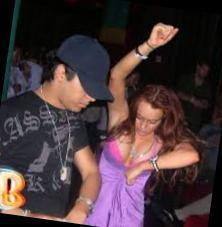Drunk: (136, 103, 161, 137)
